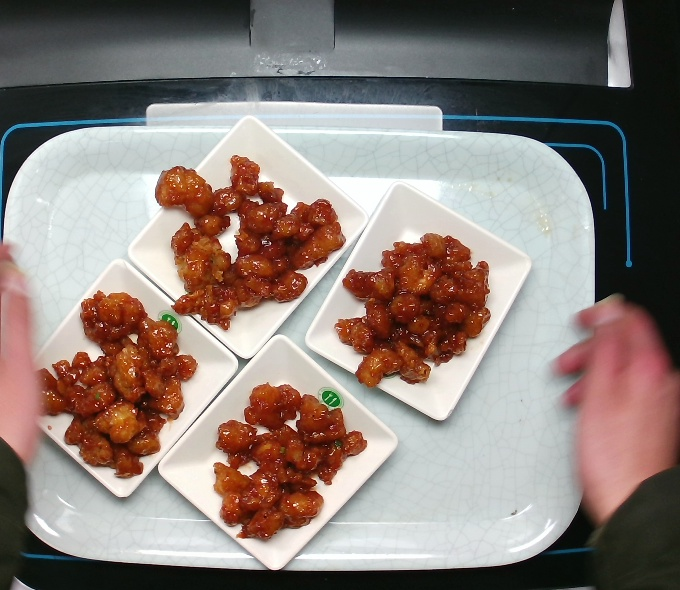wcq-TangCuPaiGu: (148, 156, 343, 332), (32, 289, 200, 483), (206, 382, 370, 542), (333, 232, 494, 389)
